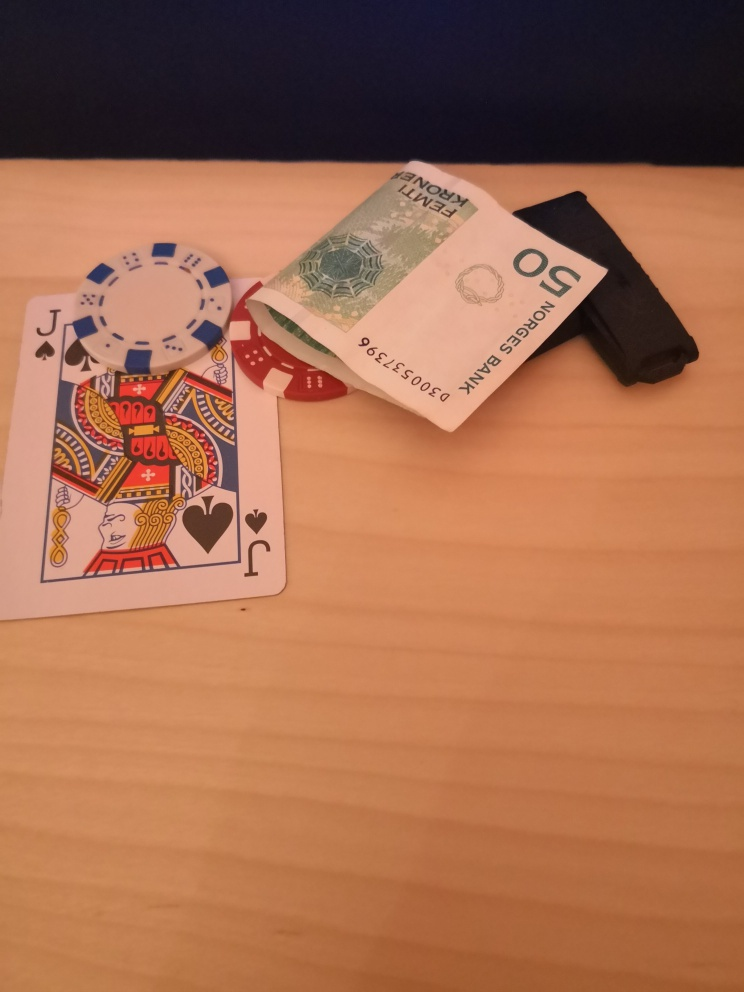jack: (3, 293, 286, 622)
